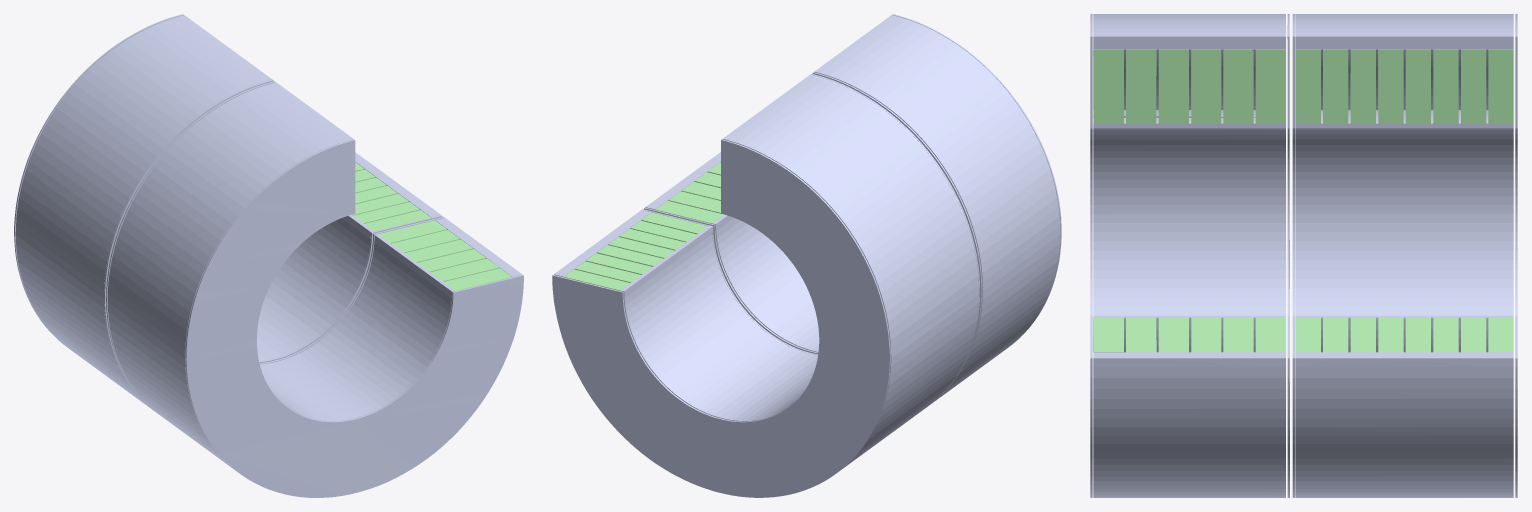
Rendered from TRT-SideC-cut3.glb.
3 views of the same model, side by side, from view 1: azimuth 30°, elevation 25°; view 2: azimuth 150°, elevation 25°; view 3: azimuth 270°, elevation 25° (orthographic). The views are drawn at different scales.
Parts seen in each view (by area): view 1: null; view 2: null; view 3: null.
Boxes of the visible parts, left/top/right/bottom form: null: left=14, top=14, right=523, bottom=497; null: left=552, top=14, right=1061, bottom=497; null: left=1090, top=14, right=1517, bottom=497.
Bounding box in the file's own units: 2.14 × 2.13 × 1.89.
